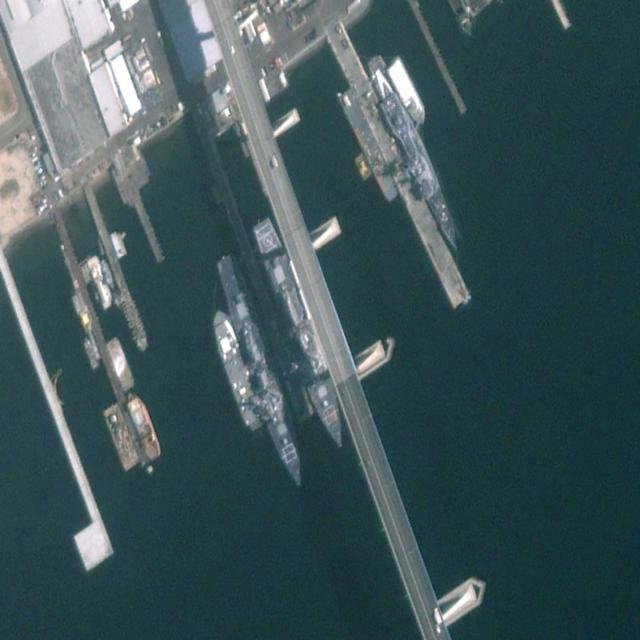Destroyer: (213, 247, 313, 495), (250, 213, 352, 455)
Frigate: (362, 47, 466, 258)
Other Ship: (206, 305, 267, 437)
